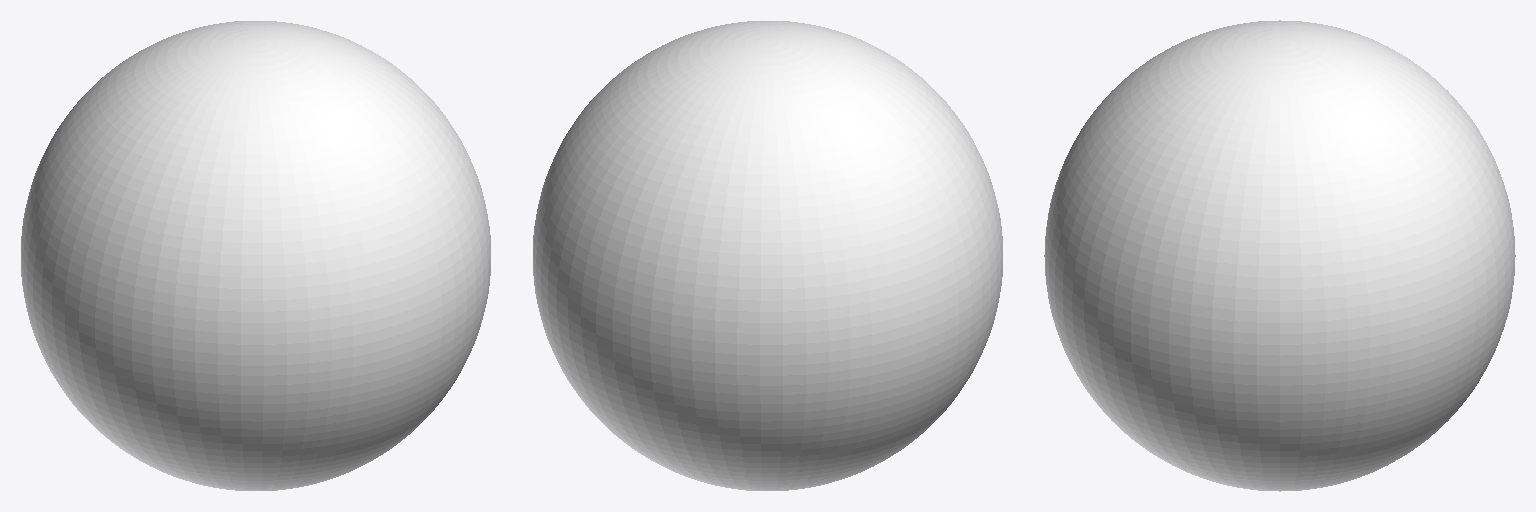
File: Ball1.obj
The picture shows the model from 3 angles: view 1: azimuth 30°, elevation 25°; view 2: azimuth 150°, elevation 25°; view 3: azimuth 270°, elevation 25°; orthographic projection.
Parts seen in each view (by area): view 1: Sphere; view 2: Sphere; view 3: Sphere.
Part boxes in pixels (bbox=[...]): Sphere: bbox=[21, 21, 490, 490]; Sphere: bbox=[533, 21, 1002, 490]; Sphere: bbox=[1044, 20, 1515, 491].
Bounding box in the file's own units: 2 × 2 × 2.